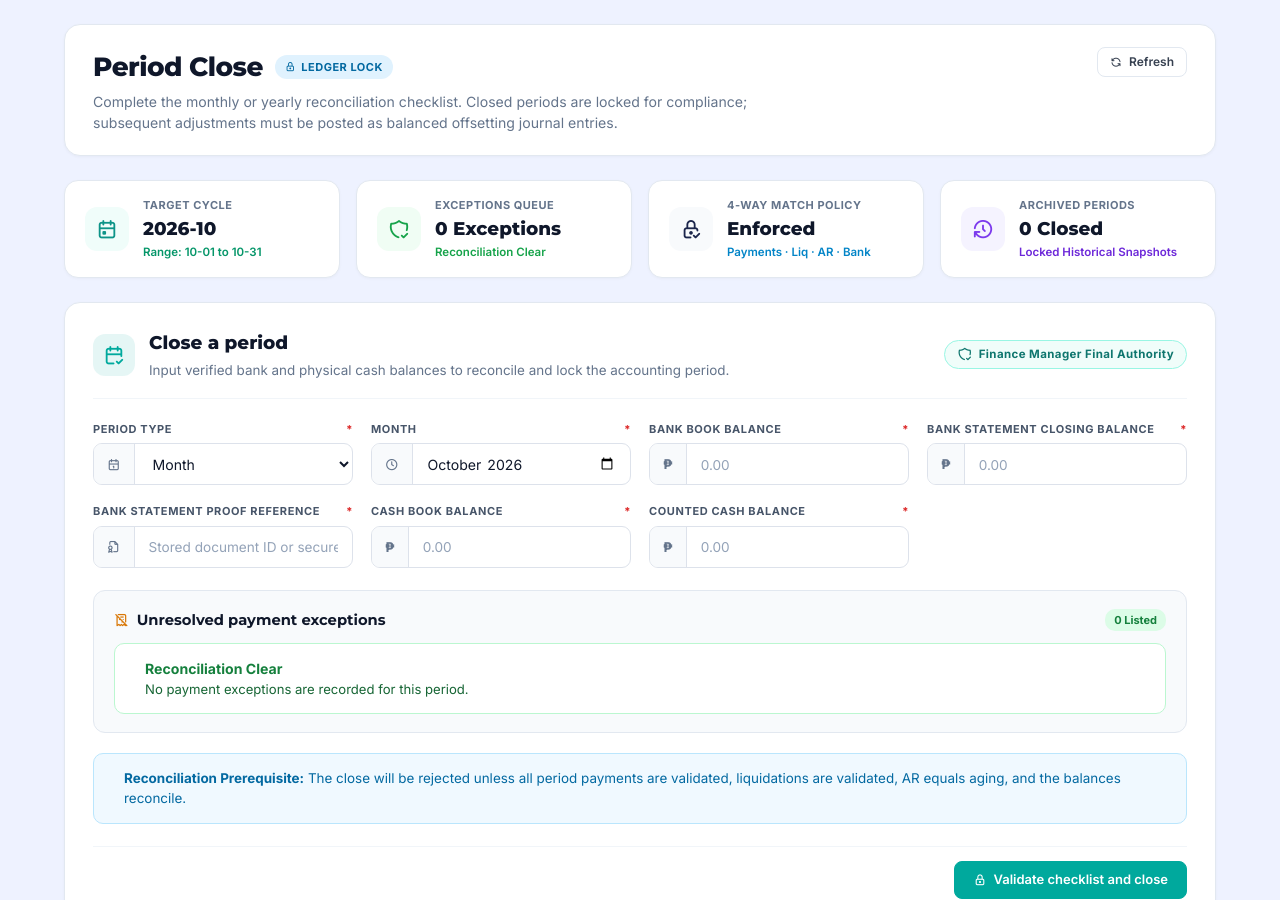
PeriodClose — Speedex OneUI Interface › displays live balance variance indicator when balances are entered
Type "100000" into the number field labelled "Bank book balance *".
click(797, 464); type("100000")  # box [687, 444, 908, 484]
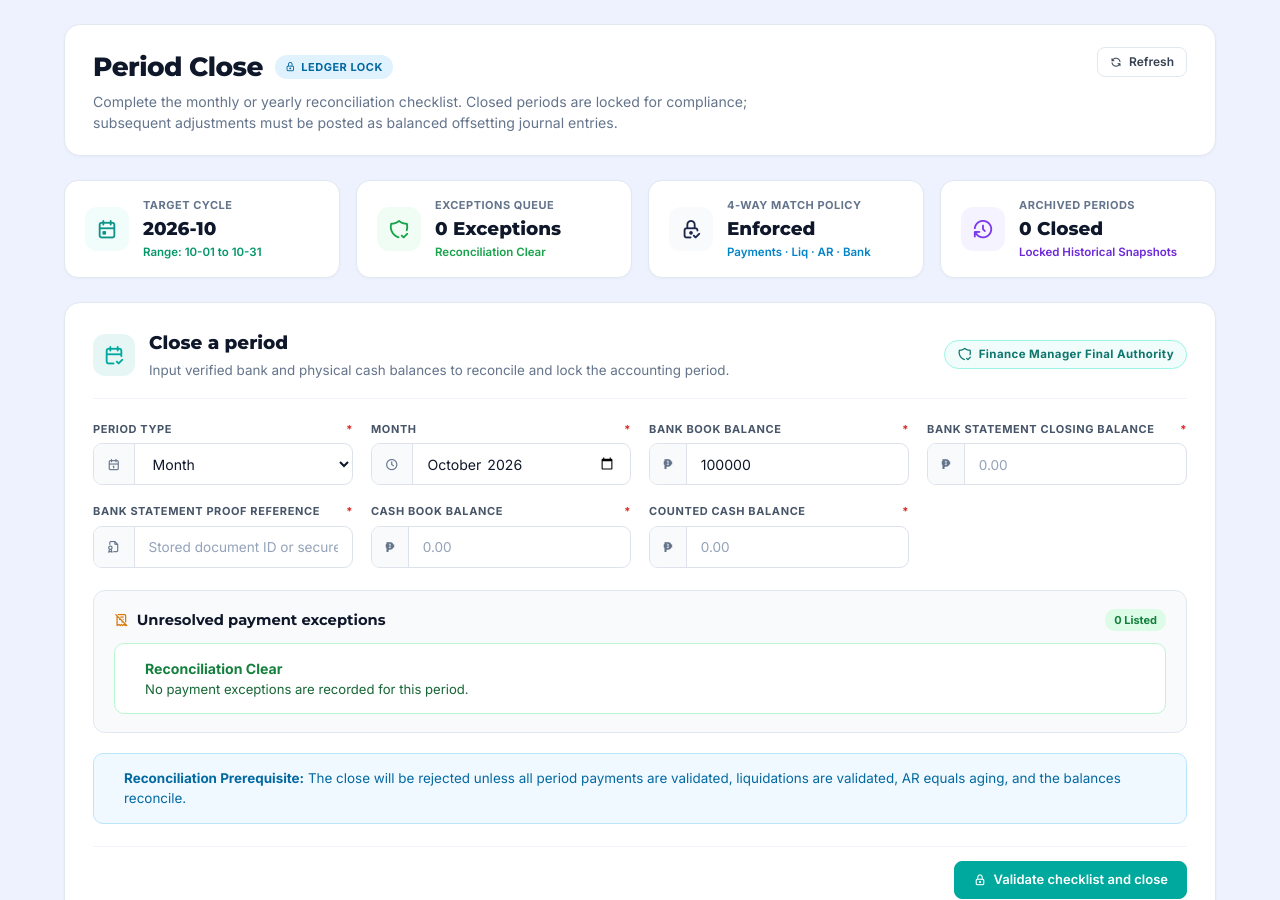
Type "100000" into the number field labelled "Bank statement closing balance *".
click(1075, 464); type("100000")  # box [965, 444, 1186, 484]
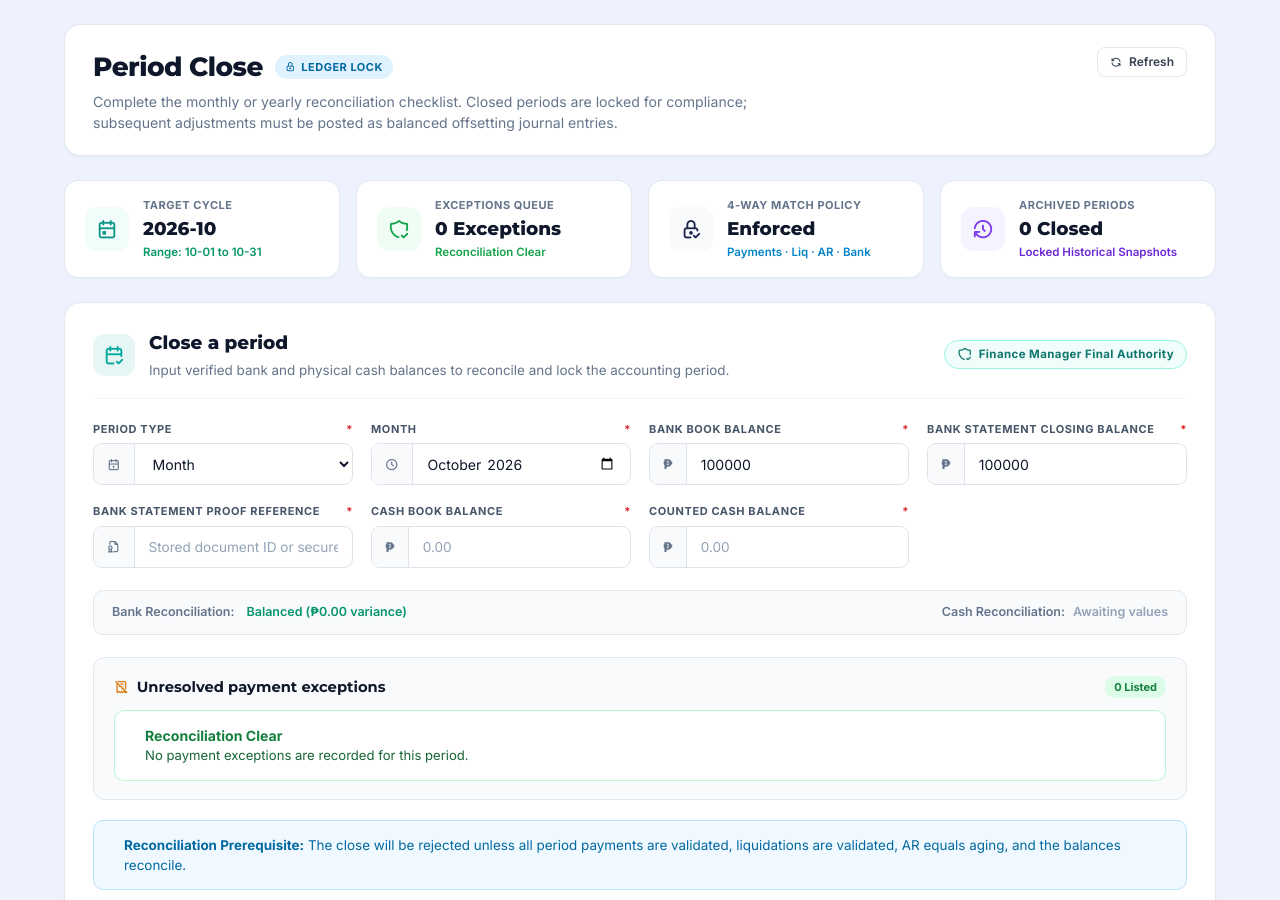
Expected: the text "Balanced (₱0.00 variance)" is shown, [242, 603, 407, 622]
